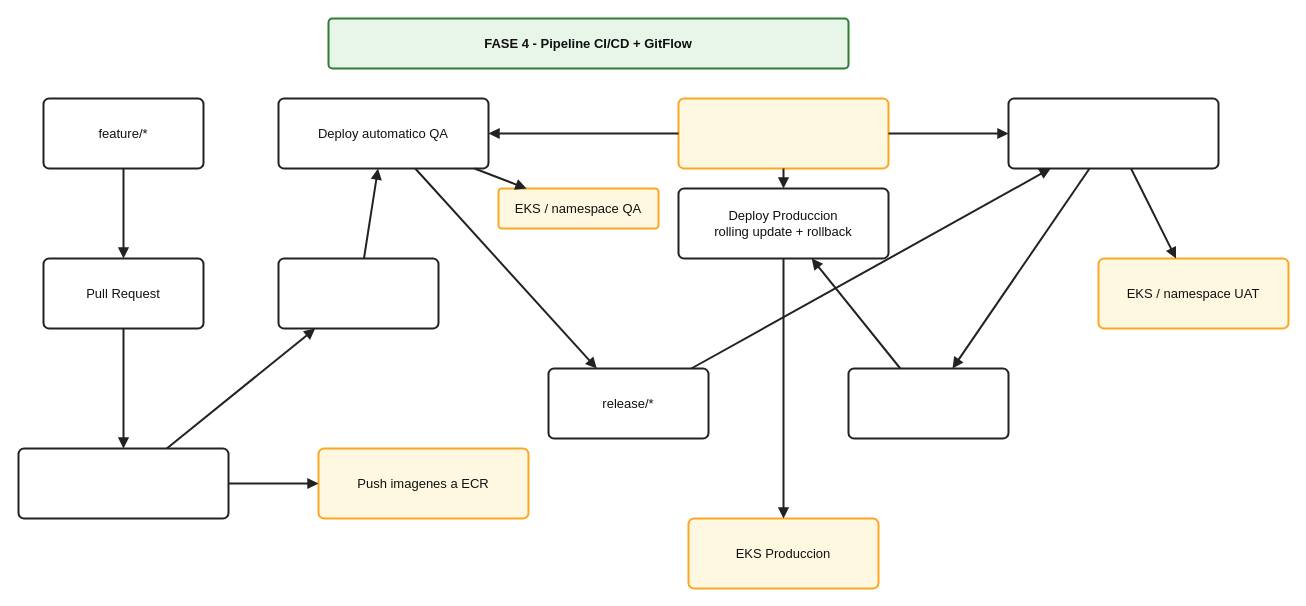
Image size: 1306x606. Some labels were removed from this diagram. Each missing label, with the centre of its shape:
CI lint + tests + build: point 123,483
Deploy UAT aprobacion manual + smoke tests: point 1113,133
develop: point 358,293
main + tag: point 928,403
Terraform plan/apply: point 783,133
